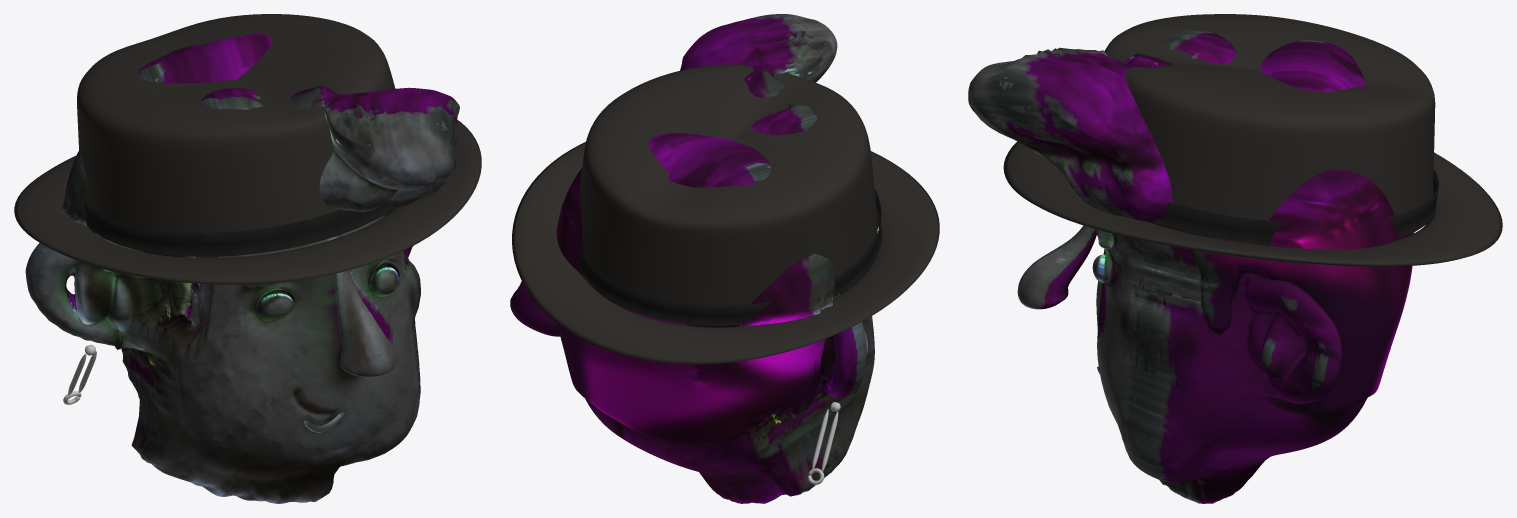
The model's file is face-stone.glb.
3 renders of one model, left to right at view 1: azimuth 30°, elevation 25°; view 2: azimuth 150°, elevation 25°; view 3: azimuth 270°, elevation 25°, orthographic. The views are drawn at different scales.
Parts seen in each view (by area): view 1: Hat, Skin, Hair, HatBand, Pin, EyeL, EyeR; view 2: Hat, Hair, Skin, HatBand, Pin; view 3: Hat, Hair, Skin, HatBand.
Part boxes in pixels (x1,y1,x2,y2): Hat: (14, 14, 481, 284); Skin: (25, 209, 420, 503); Hair: (61, 33, 459, 365); HatBand: (83, 202, 394, 256); Pin: (63, 344, 96, 404); EyeL: (258, 293, 293, 317); EyeR: (373, 267, 398, 294); Hat: (512, 64, 939, 364); Hair: (556, 14, 837, 445); Skin: (510, 281, 874, 503); HatBand: (575, 188, 881, 325); Pin: (807, 402, 840, 484); Hat: (1003, 14, 1502, 266); Hair: (968, 30, 1414, 413); Skin: (1017, 225, 1367, 503); HatBand: (1152, 169, 1438, 245).
Bounding box in the file's own units: 2.85 × 3.04 × 3.26.
Materials: 11 (7 with a texture image).
